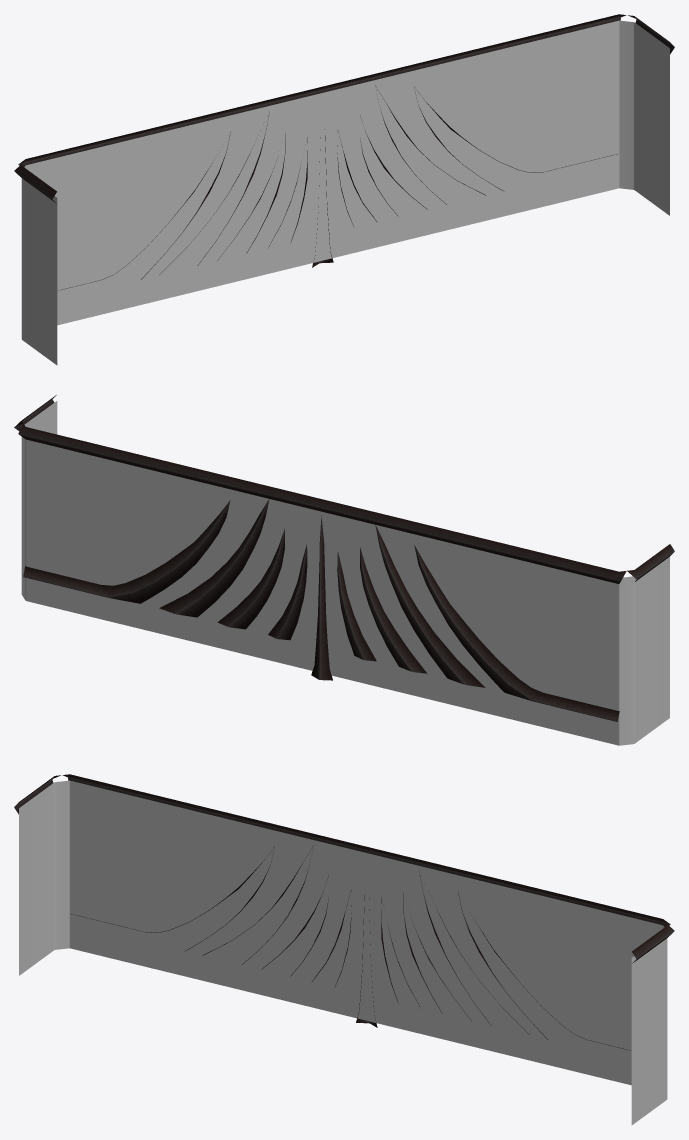
The model's file is lower_city_lift_01_high_wall_bottom.fbx.
3 views of the same model, one above another, from view 1: azimuth 30°, elevation 25°; view 2: azimuth 150°, elevation 25°; view 3: azimuth 330°, elevation 25° (orthographic).
Parts seen in each view (by area): view 1: lower_city_lift_01_high_wall_bottom; view 2: lower_city_lift_01_high_wall_bottom; view 3: lower_city_lift_01_high_wall_bottom.
Boxes of the visible parts, left/top/right/bottom form: lower_city_lift_01_high_wall_bottom: left=14, top=14, right=674, bottom=365; lower_city_lift_01_high_wall_bottom: left=14, top=395, right=674, bottom=745; lower_city_lift_01_high_wall_bottom: left=14, top=774, right=674, bottom=1125.
Size of the model in its own units: 19.41 by 5.32 by 2.38.
